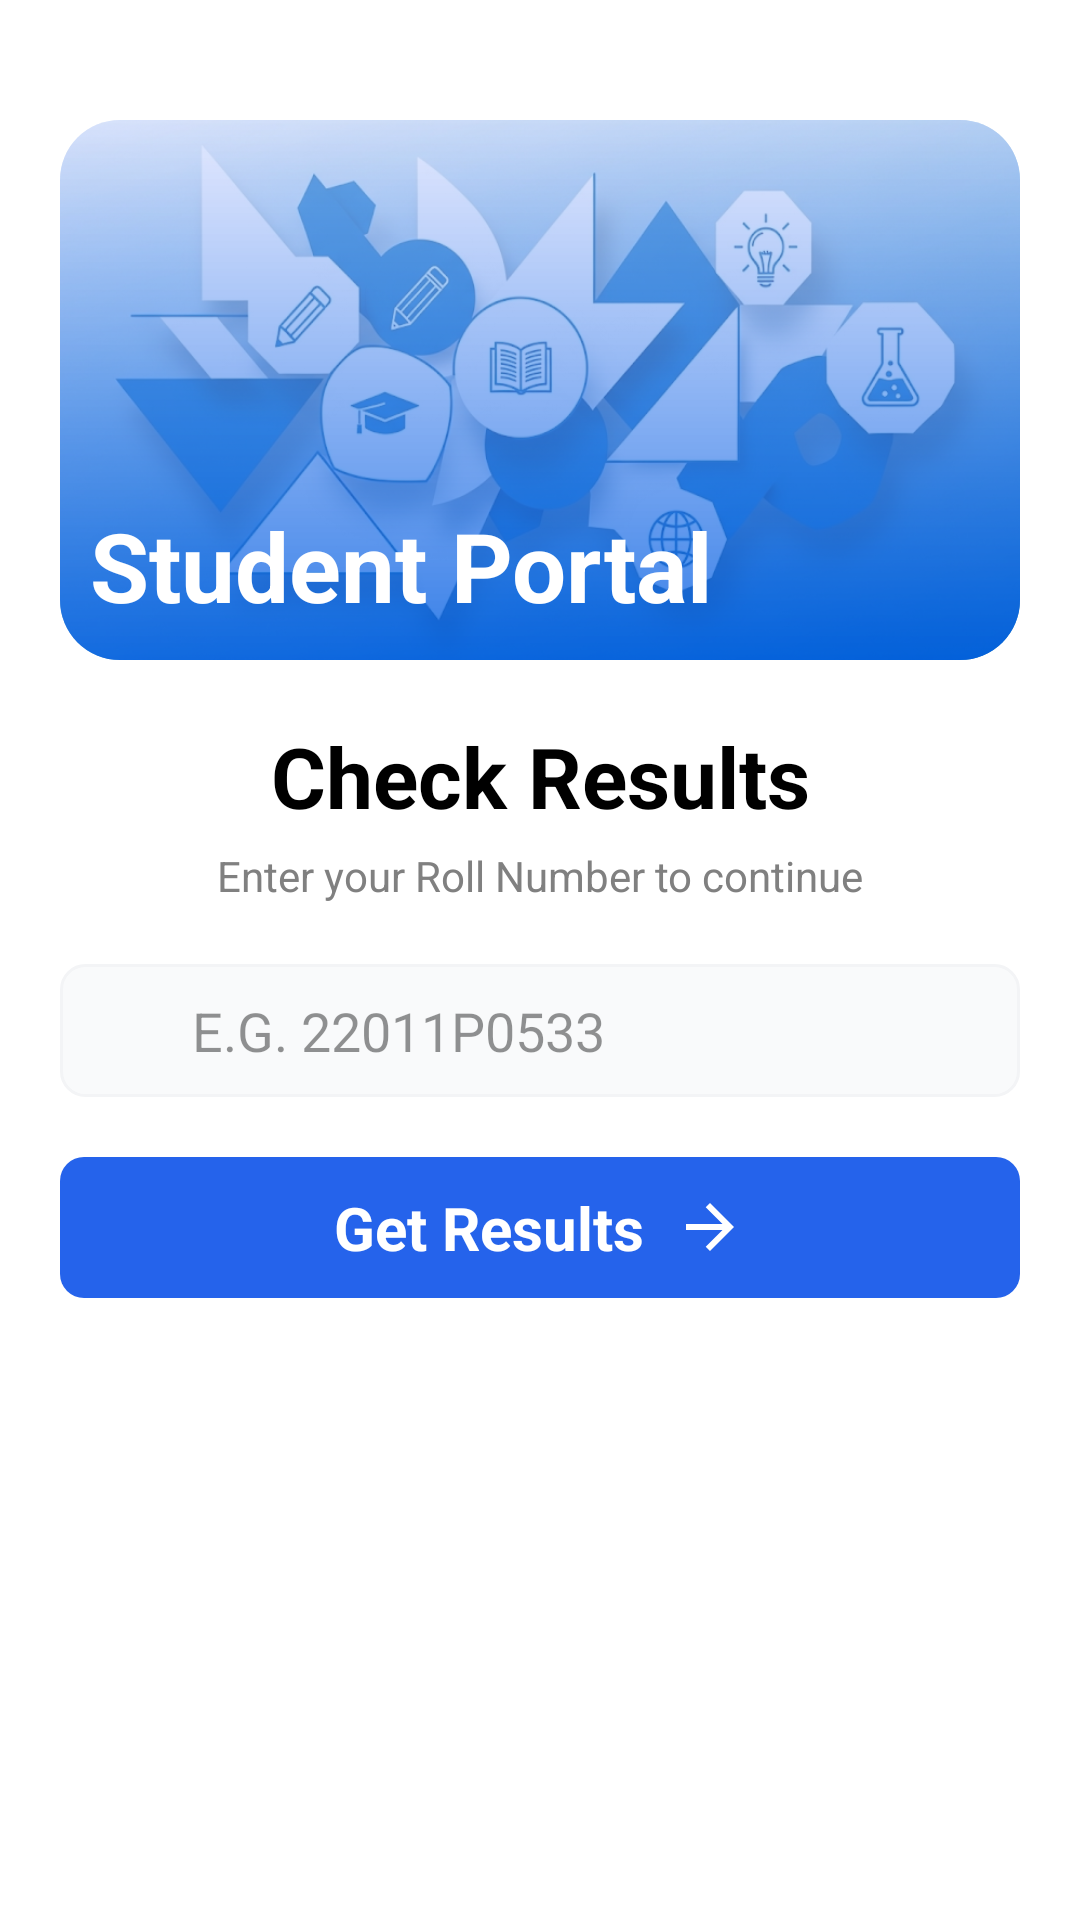

Icons on this 1080x1920 Android screen, each with its box as (x1, y1, x2, y2):
arrow forward: (686, 1203, 734, 1251)
